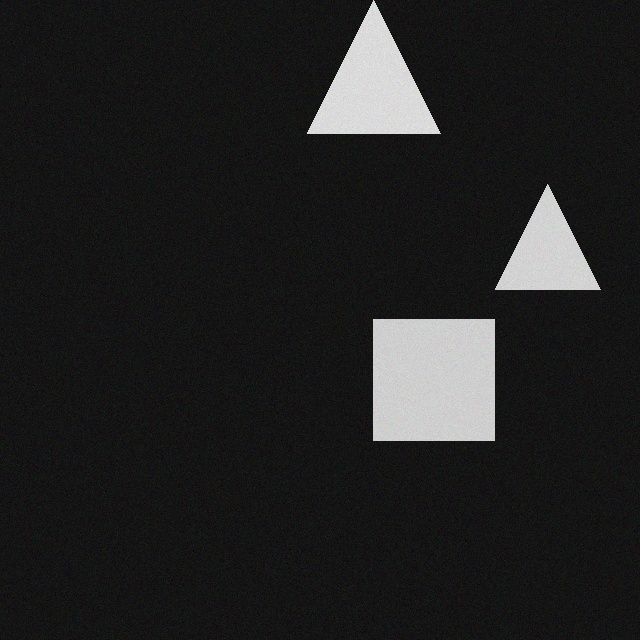square: (380, 322, 501, 443)
triangle: (314, 3, 447, 136), (502, 187, 607, 292)
